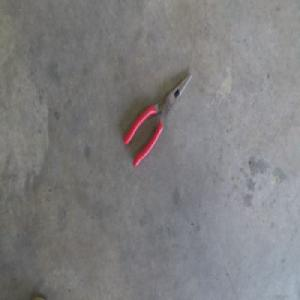Pliers: (122, 72, 192, 169)
